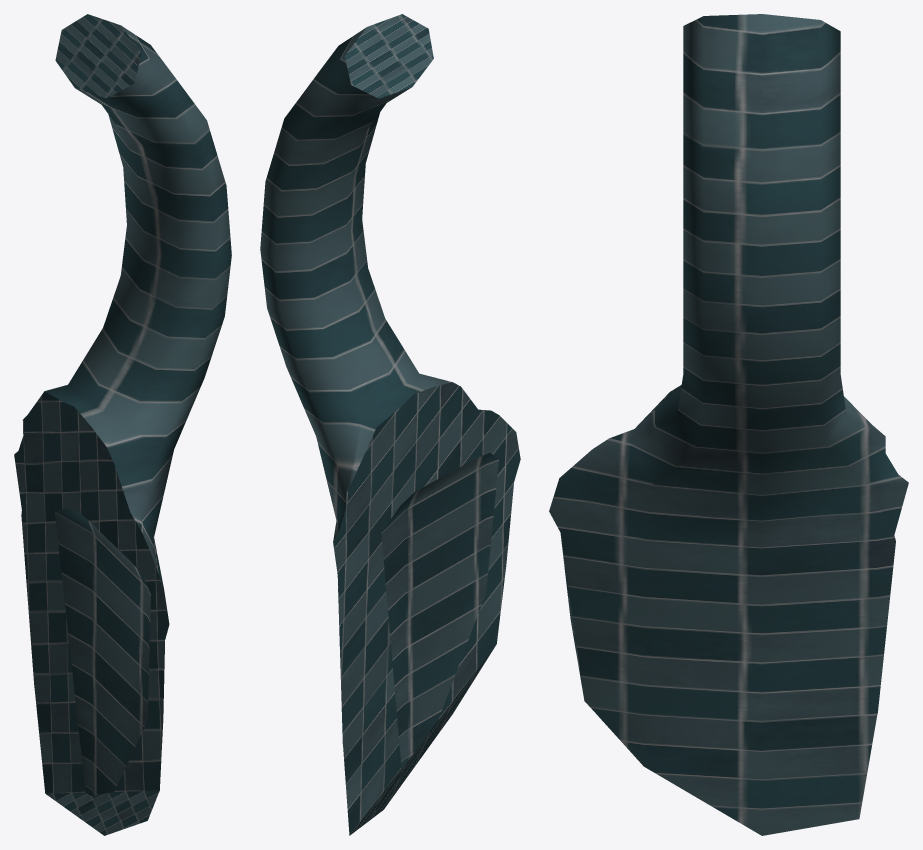
3 renders of one model, left to right at view 1: azimuth 30°, elevation 25°; view 2: azimuth 150°, elevation 25°; view 3: azimuth 270°, elevation 25°, orthographic. The views are drawn at different scales.
Parts seen in each view (by area): view 1: Cylinder_cell; view 2: Cylinder_cell; view 3: Cylinder_cell.
Part boxes in pixels (x1,y1,x2,y2): Cylinder_cell: [14, 14, 231, 835]; Cylinder_cell: [260, 14, 520, 835]; Cylinder_cell: [549, 14, 908, 835].
Size of the model in its own units: 0.3382 by 1.77 by 0.6955.
1 material, 1 textured.
